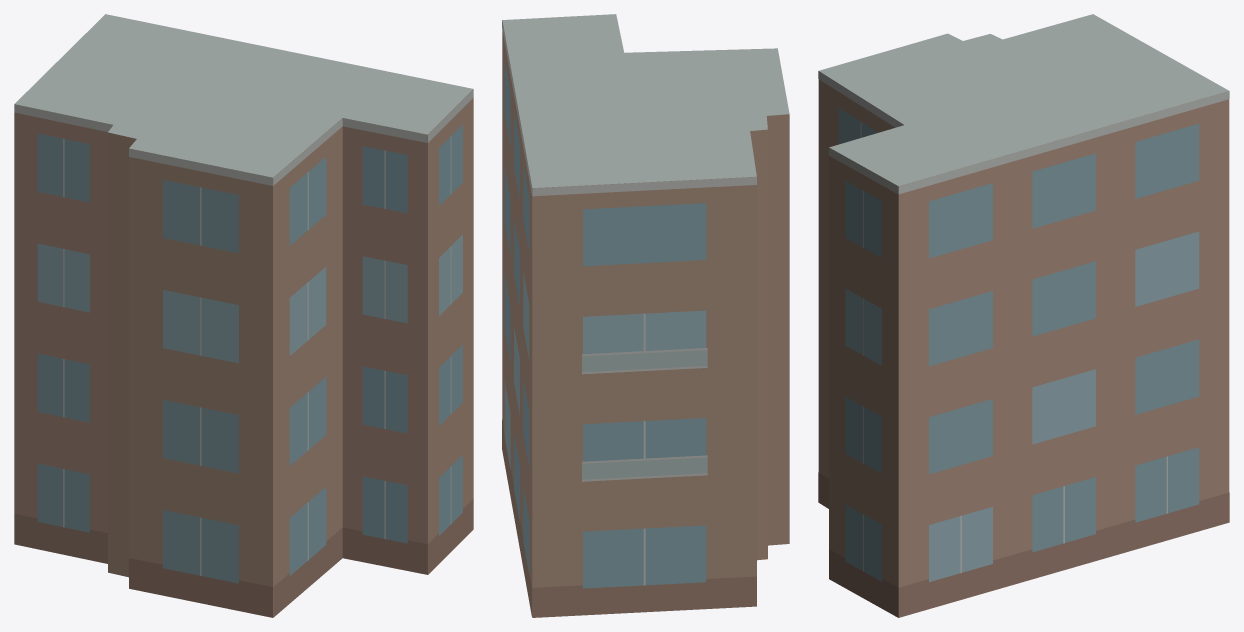
Rendered from survey-upis-32481641.glb.
3 views of the same model, side by side, from view 1: azimuth 30°, elevation 25°; view 2: azimuth 150°, elevation 25°; view 3: azimuth 270°, elevation 25° (orthographic). The views are drawn at different scales.
Parts seen in each view (by area): view 1: survey-upis-32481641.tmp; view 2: survey-upis-32481641.tmp; view 3: survey-upis-32481641.tmp.
Part boxes in pixels (x1,y1,x2,y2): survey-upis-32481641.tmp: [14, 14, 473, 617]; survey-upis-32481641.tmp: [502, 14, 789, 617]; survey-upis-32481641.tmp: [818, 14, 1229, 617].
Bounding box in the file's own units: 10.96 × 12.8 × 11.05.
